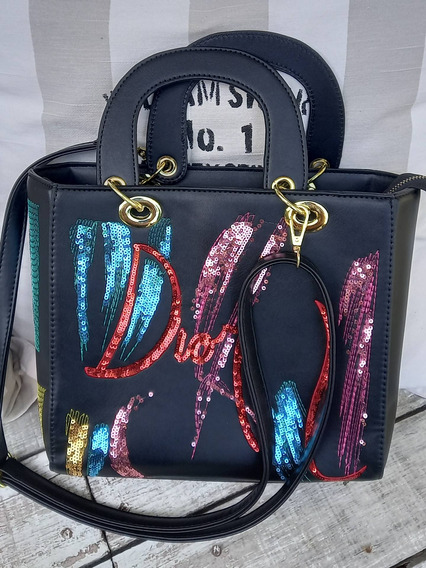cartera: (31, 29, 426, 483)
